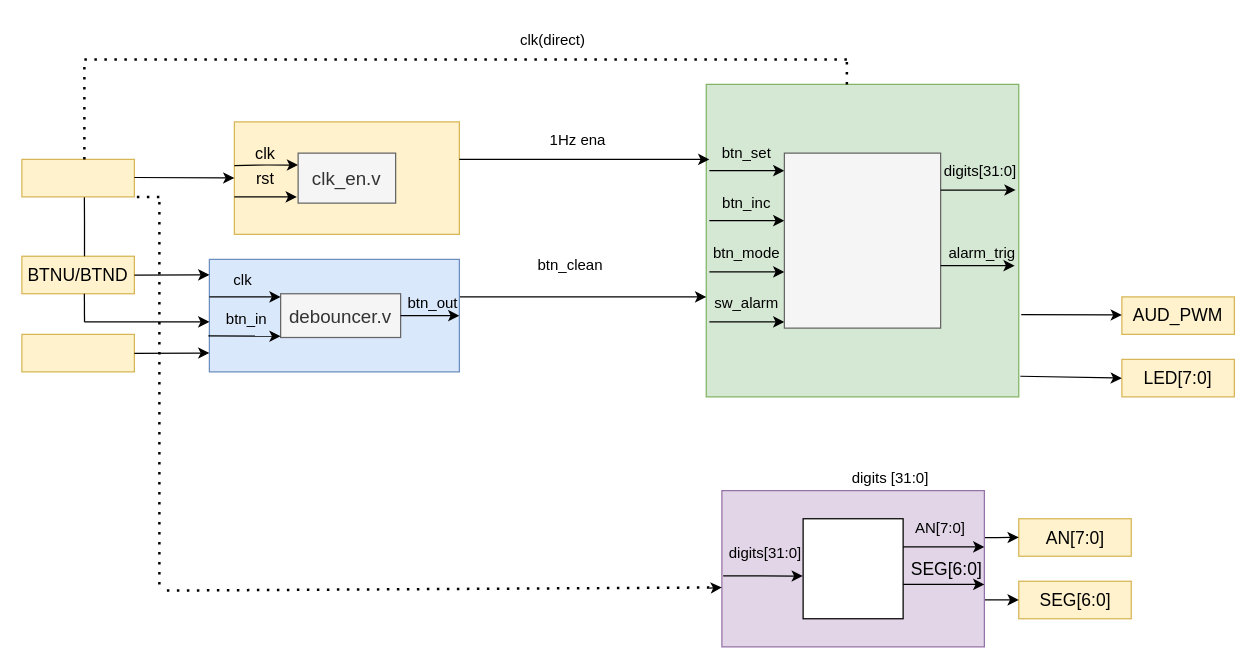
The diagram is 1256 pixels wide and 669 high, and some of its shapes have lost their labels. Each missing label, with the centre of its shape:
alarm_clock_top.v counters: HH,MM;SS alarm regs: AHH,AMM FSM: normal/set/alarm: [862,240]
BTNC / SW[0]: [77,352]
CLK100MHZ: [77,177]
display_driver .v: [852,568]
